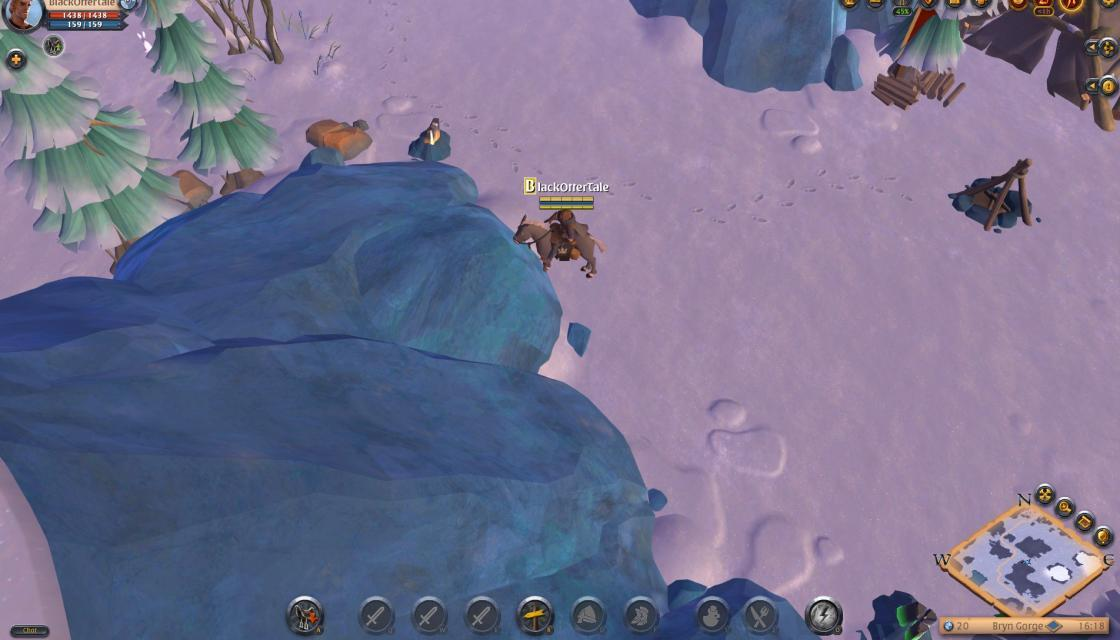copperore: (409, 112, 453, 162)
limestone: (306, 114, 371, 159), (164, 168, 214, 208)
tinore: (873, 586, 940, 640)
